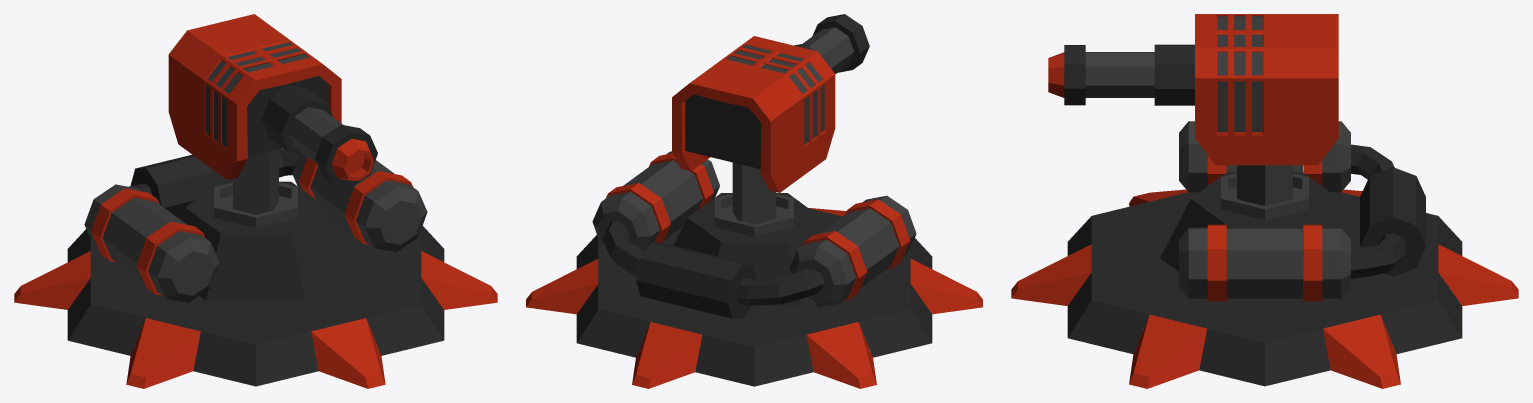
File: Flamethrower Turret.glb
The picture shows the model from 3 angles, left to right: view 1: azimuth 30°, elevation 25°; view 2: azimuth 150°, elevation 25°; view 3: azimuth 270°, elevation 25°; orthographic projection. The views are drawn at different scales.
Visible parts, largest first — view 1: BaseFlamethrowerTurret1, MiddleFlamethrowerTurret1; view 2: BaseFlamethrowerTurret1, MiddleFlamethrowerTurret1; view 3: BaseFlamethrowerTurret1, MiddleFlamethrowerTurret1.
Boxes of the visible parts, x1,y1,x2,y2 form: BaseFlamethrowerTurret1: (14,14,497,388); MiddleFlamethrowerTurret1: (84,42,427,302); BaseFlamethrowerTurret1: (526,14,982,388); MiddleFlamethrowerTurret1: (592,27,916,307); BaseFlamethrowerTurret1: (1011,14,1518,388); MiddleFlamethrowerTurret1: (1085,16,1350,298).
Bounding box in the file's own units: 4.42 × 2.81 × 4.92.
